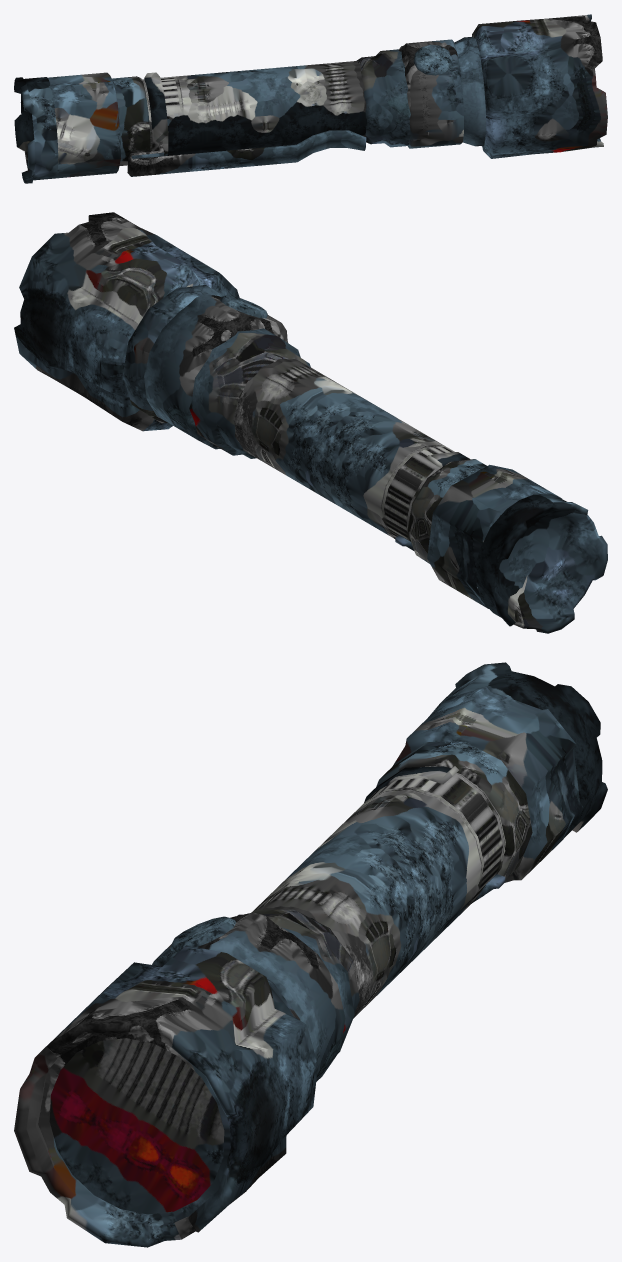
The model's file is flashlight.obj.
3 views of the same model, one above another, from view 1: azimuth 30°, elevation 25°; view 2: azimuth 150°, elevation 25°; view 3: azimuth 270°, elevation 25° (orthographic). The views are drawn at different scales.
Visible parts, largest first — view 1: Object_4_Object_0; view 2: Object_4_Object_0; view 3: Object_4_Object_0.
Boxes of the visible parts, left/top/right/bottom form: Object_4_Object_0: left=14, top=14, right=607, bottom=183; Object_4_Object_0: left=14, top=212, right=607, bottom=633; Object_4_Object_0: left=14, top=662, right=607, bottom=1247.
Bounding box in the file's own units: 0.1303 × 0.0306 × 0.0734.
